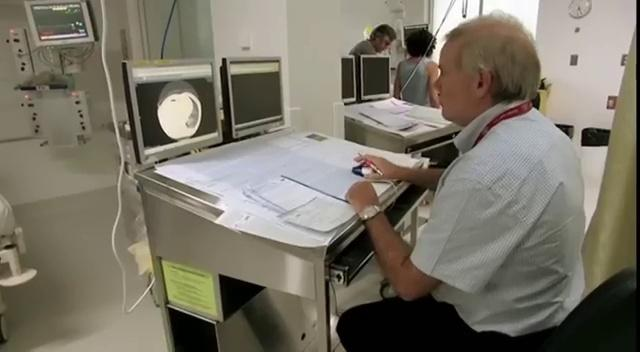others: (335, 9, 587, 350), (392, 28, 441, 108), (348, 23, 396, 55)
